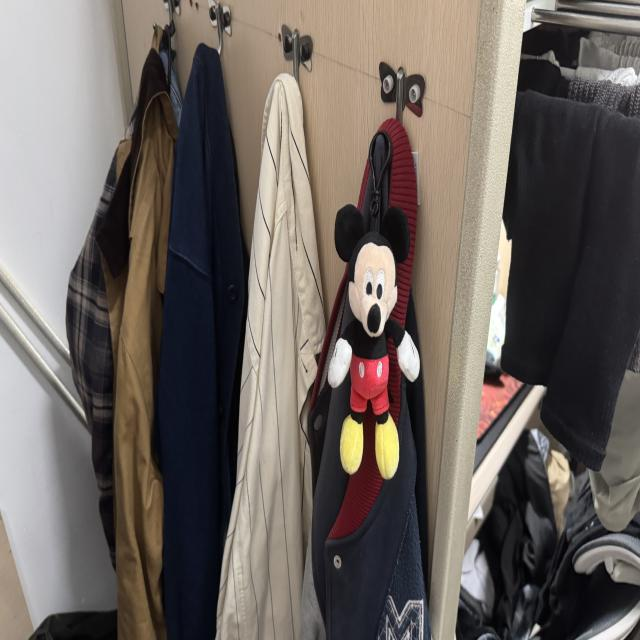mickey: (328, 205, 419, 479)
